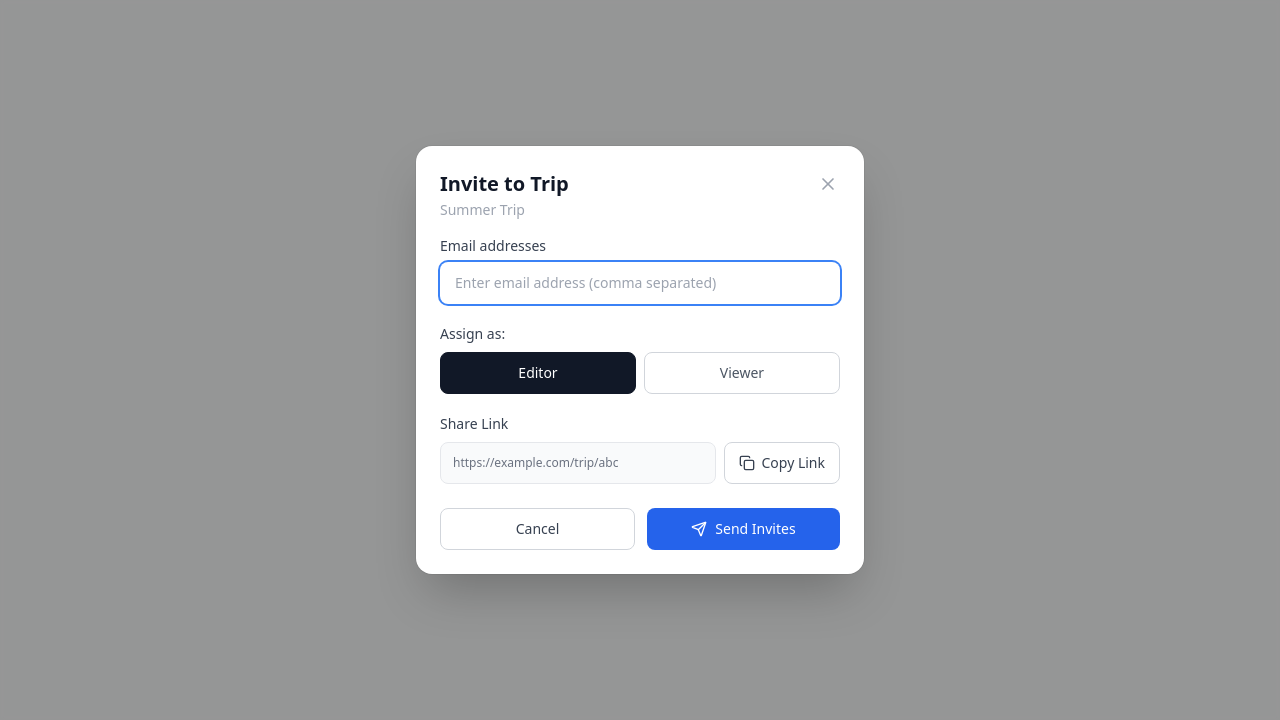
Test: InviteModal › InviteModal (component) › typing updates value and clears error after validation error
The image size is (1280, 720).
Step 1. Click the button "Send Invites" → (744, 529), box [647, 508, 840, 550]
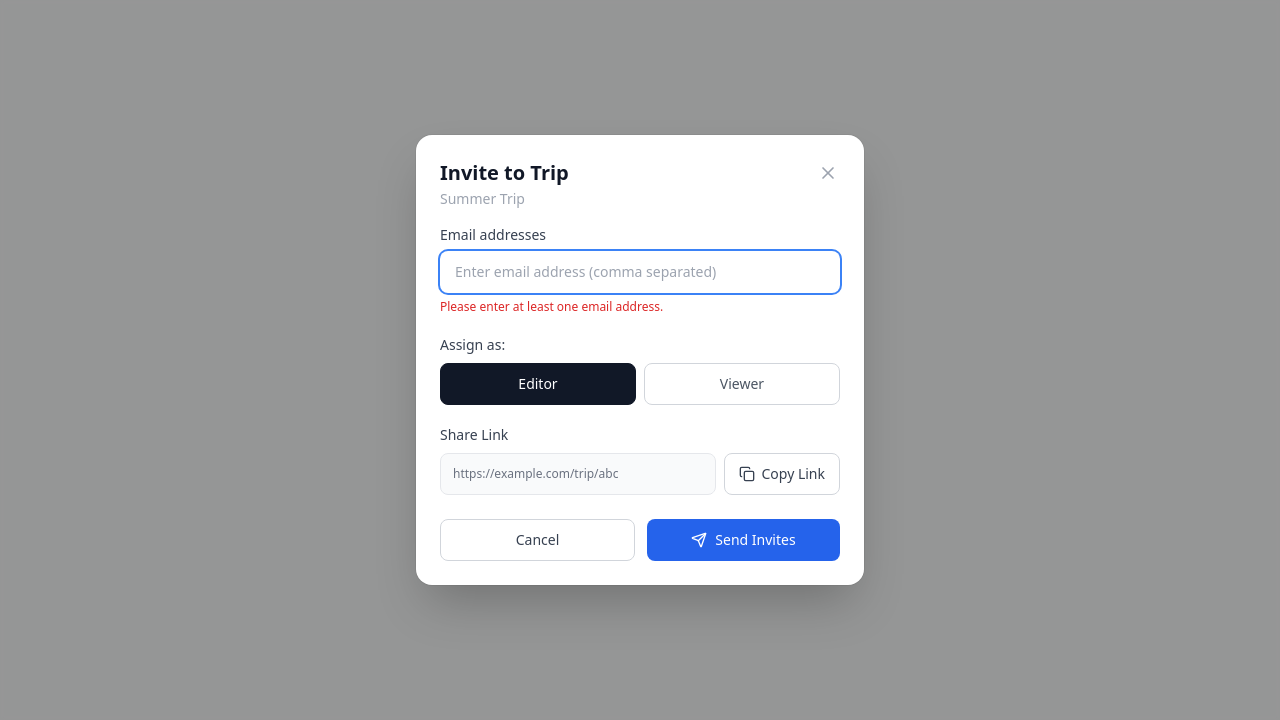
Expected: the message reads "Please enter at least one email address.", [440, 298, 663, 315]
Step 2. Type "a@b.com" into the field labelled "Email addresses" → (640, 272), box [440, 251, 840, 293]
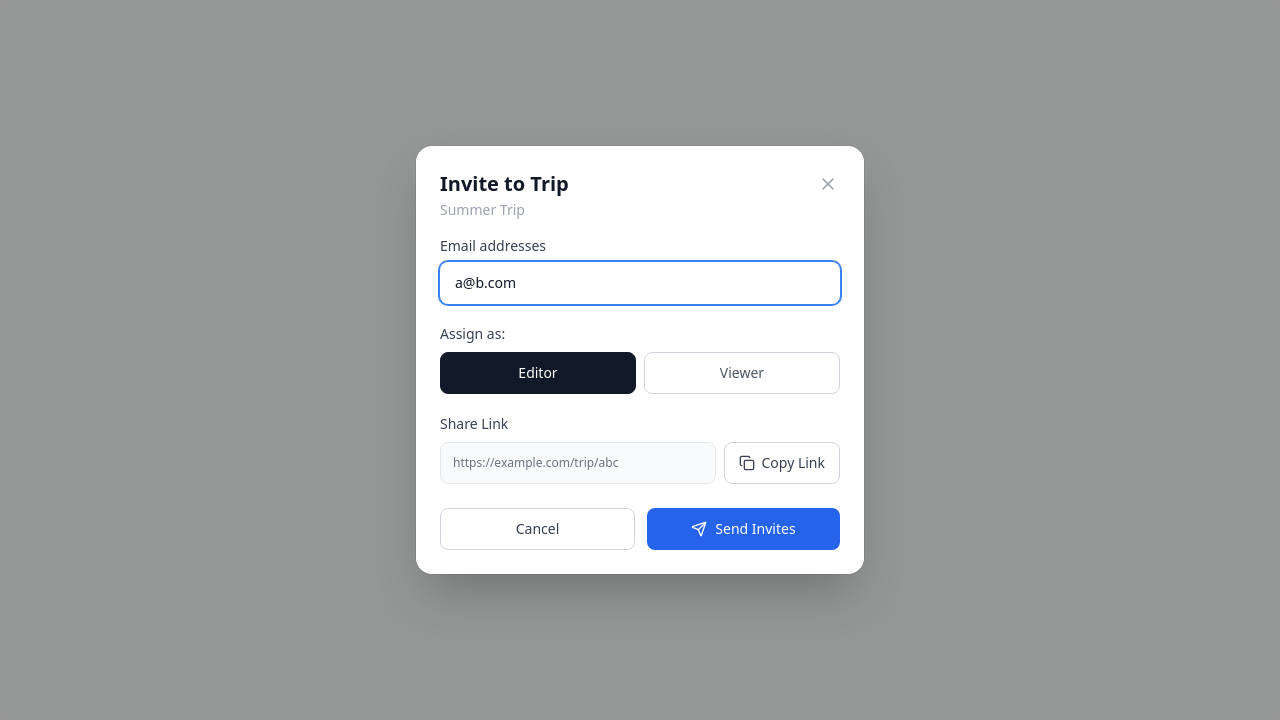
Expected: the message "Please enter at least one email address." is gone
